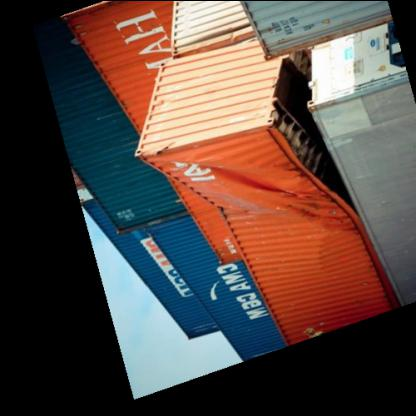Damage: (169, 124, 352, 232)
